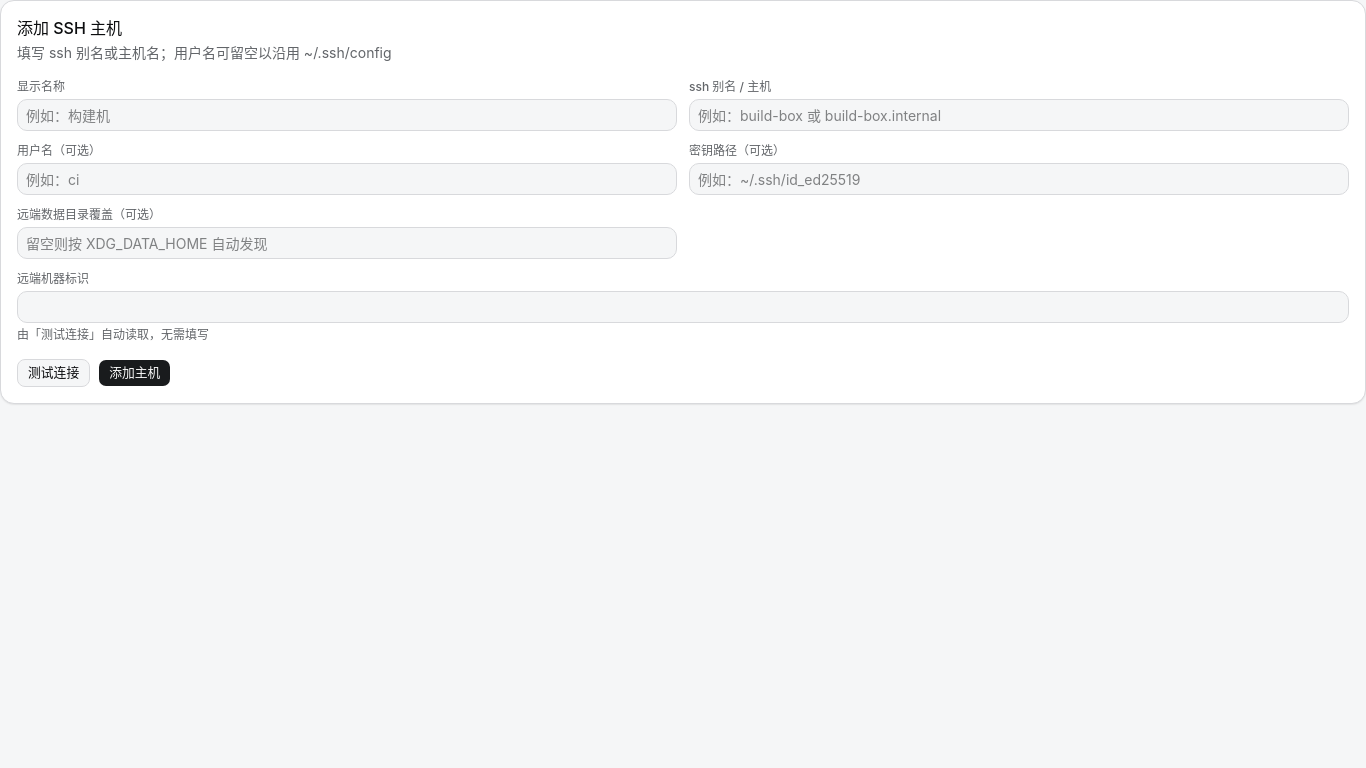
Scenario: AddSshHostForm machine-id auto-fill › fills the remote hash from a successful probe and locks the field
Expected: the text "由「测试连接」自动读取，无需填写" is shown, [17, 327, 209, 342]
In the field with test id "add-host-target": (1019, 115) [689, 99, 1349, 131], type "build-box"
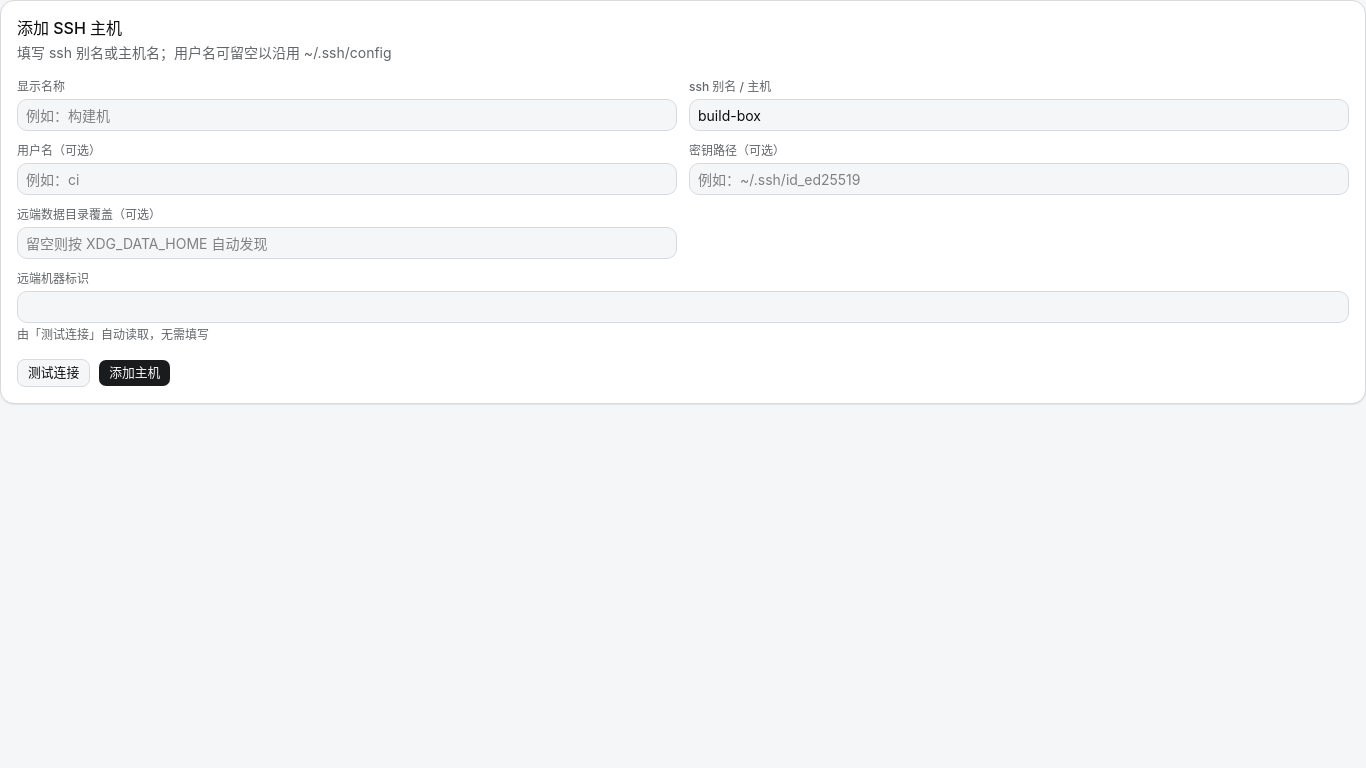
Click the button with test id "add-host-test": click(54, 373) [17, 359, 90, 387]
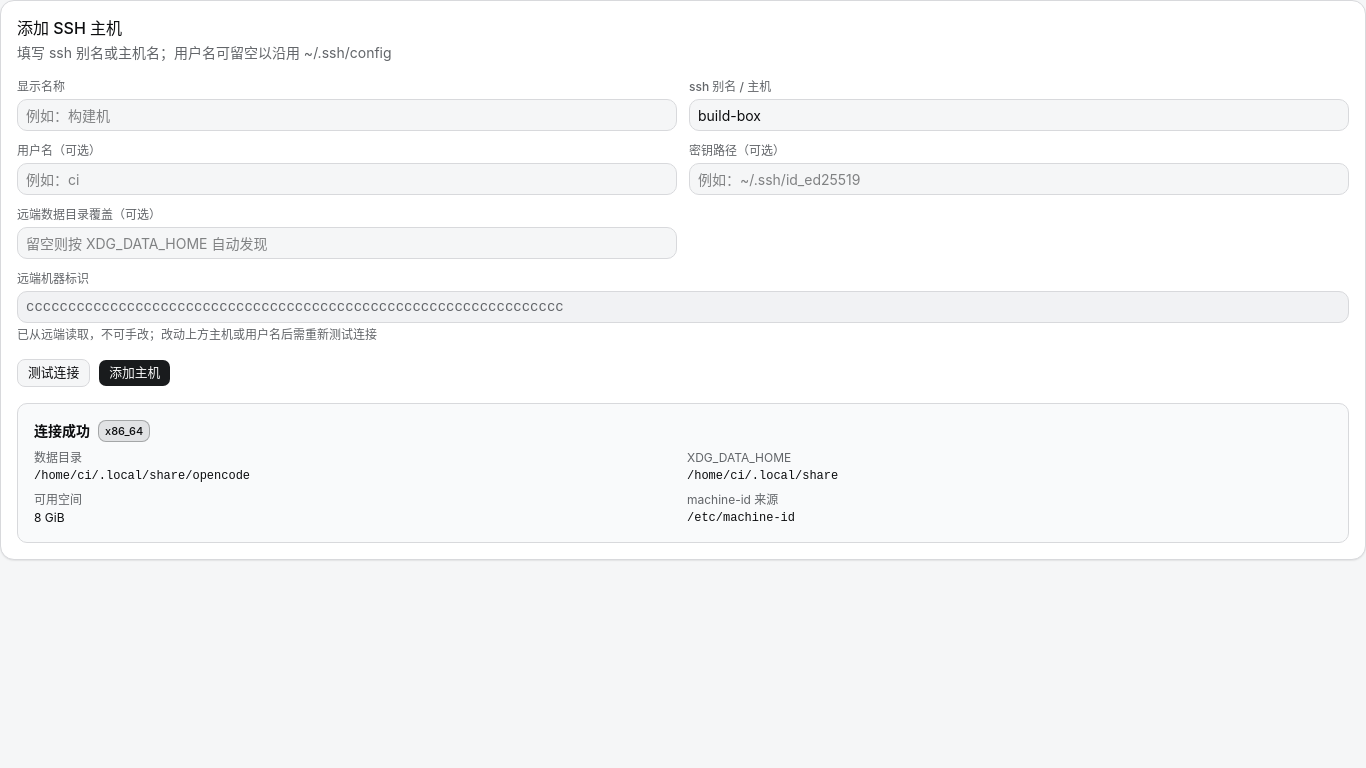
Now the element with test id "probe-success" is shown, box [17, 403, 1349, 543]
Now the text "已从远端读取，不可手改；改动上方主机或用户名后需重新测试连接" is shown, box [17, 327, 377, 342]
